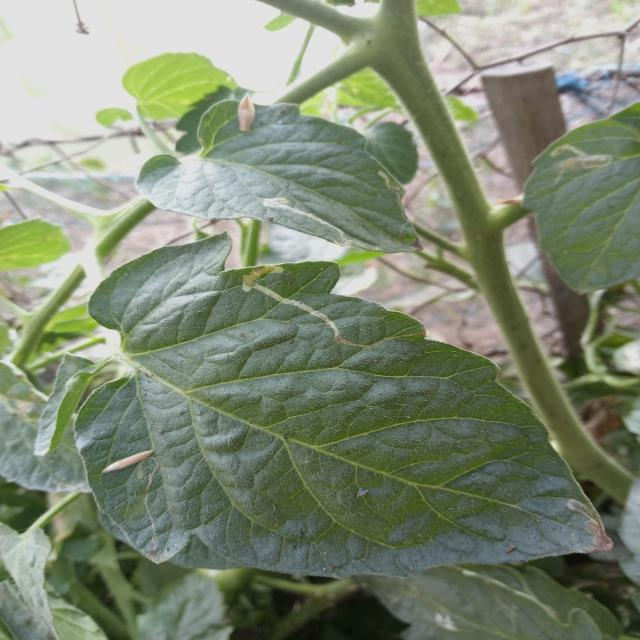Tuta absoluta: (237, 253, 370, 350), (566, 491, 615, 559)
